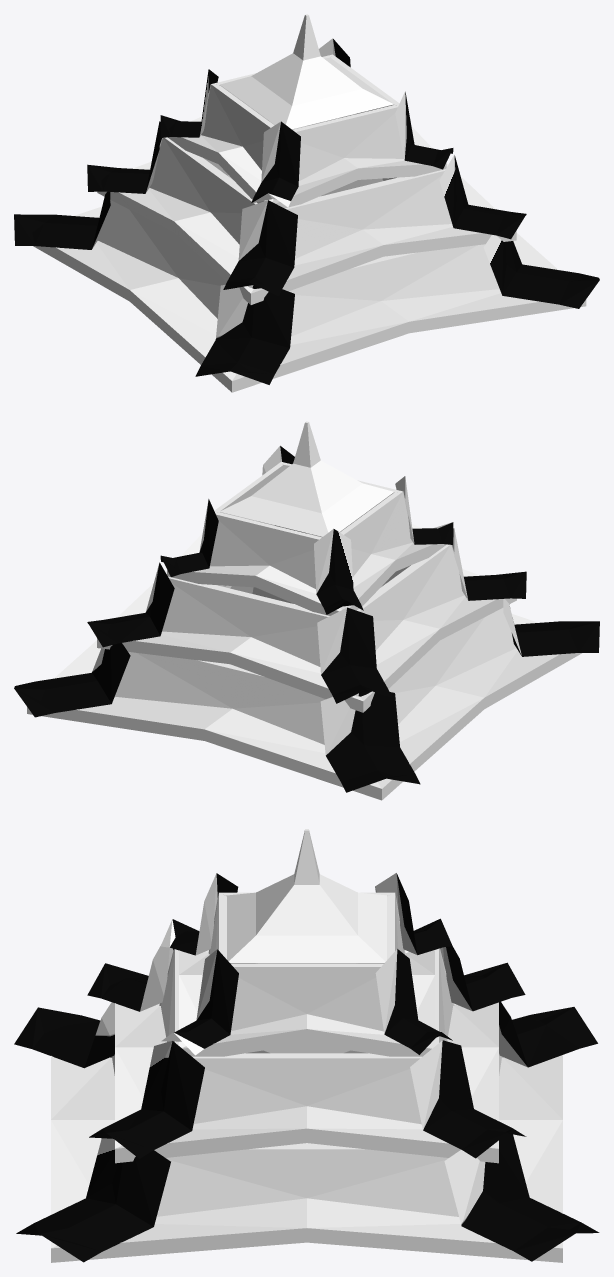
File: layered_roof.fbx
3 views of the same model, one above another, from view 1: azimuth 30°, elevation 25°; view 2: azimuth 150°, elevation 25°; view 3: azimuth 270°, elevation 25° (orthographic). The views are drawn at different scales.
Parts seen in each view (by area): view 1: layered_roof; view 2: layered_roof; view 3: layered_roof.
Part boxes in pixels (x1,y1,x2,y2): layered_roof: (14,14,599,392); layered_roof: (14,421,599,800); layered_roof: (14,829,599,1262).
Bounding box in the file's own units: 18.31 × 11.2 × 18.31.
